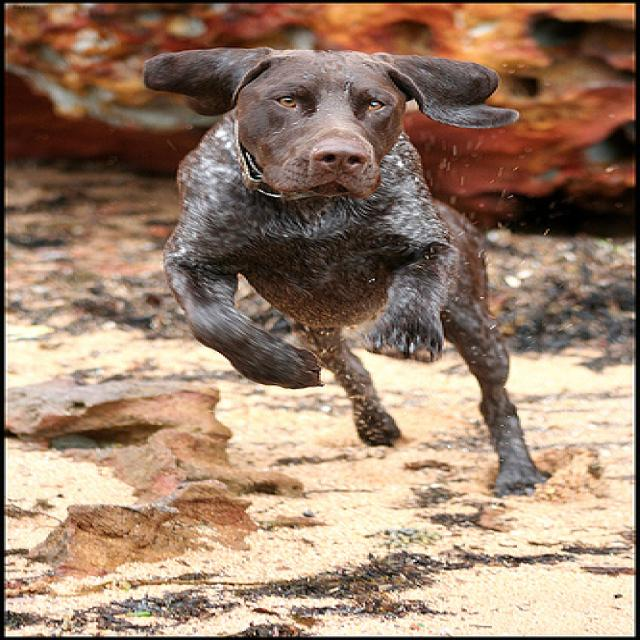dog-german_shorthaired: (125, 41, 567, 508)
